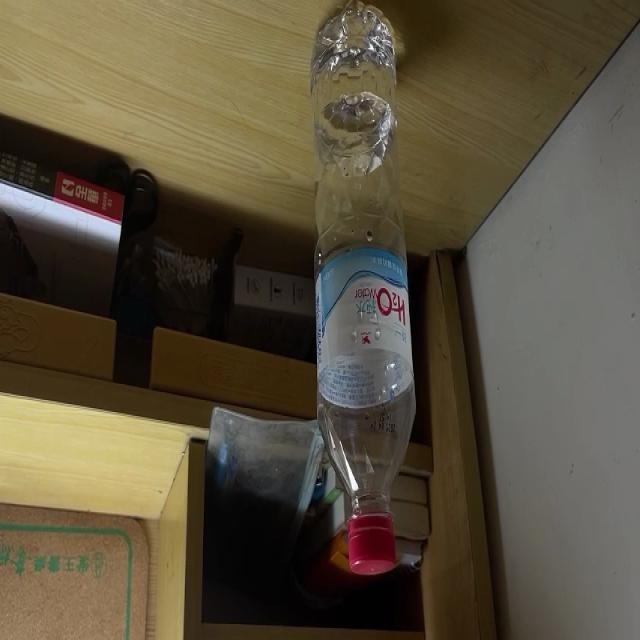Water: (311, 0, 417, 576)
